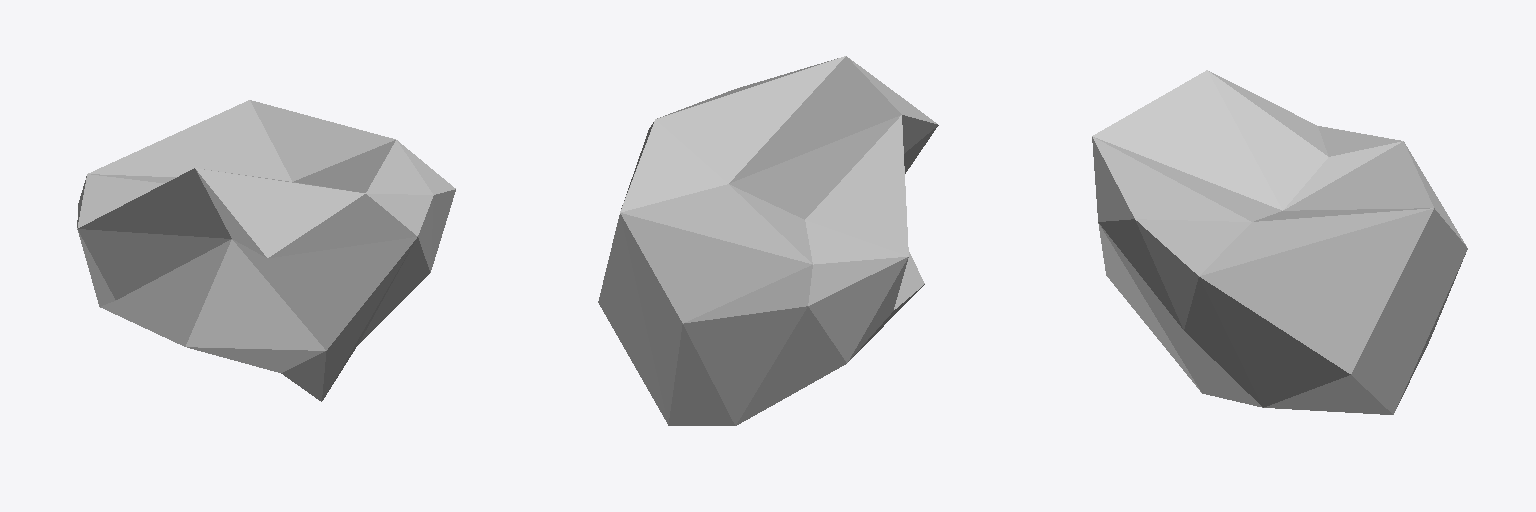
The model's file is Rock3Simple.obj.
3 views of the same model, side by side, from view 1: azimuth 30°, elevation 25°; view 2: azimuth 150°, elevation 25°; view 3: azimuth 270°, elevation 25° (orthographic).
Visible parts, largest first — view 1: Icosphere.003_Icosphere.026; view 2: Icosphere.003_Icosphere.026; view 3: Icosphere.003_Icosphere.026.
Part boxes in pixels (left/top/right/bottom): Icosphere.003_Icosphere.026: left=77, top=100, right=455, bottom=401; Icosphere.003_Icosphere.026: left=598, top=56, right=938, bottom=425; Icosphere.003_Icosphere.026: left=1092, top=70, right=1467, bottom=414.
Bounding box in the file's own units: 8.8 × 7.28 × 8.96.